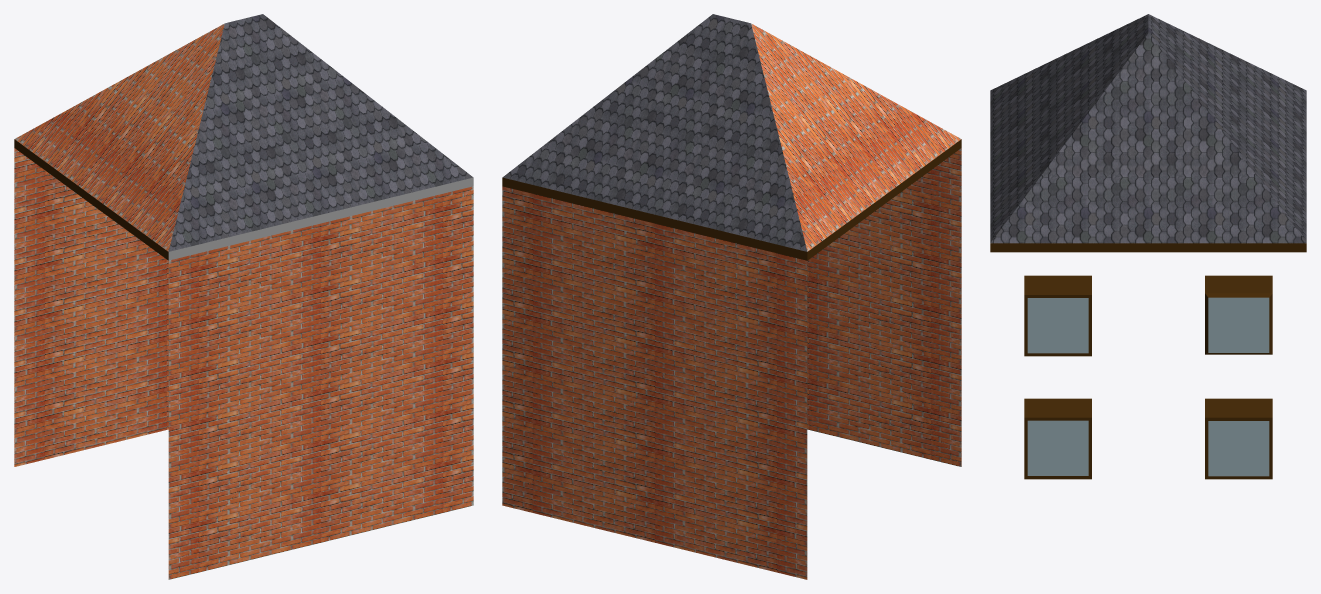
The model's file is inside_HOUSE_ENTRANCE.fbx.
3 renders of one model, left to right at view 1: azimuth 30°, elevation 25°; view 2: azimuth 150°, elevation 25°; view 3: azimuth 270°, elevation 25°, orthographic. The views are drawn at different scales.
Visible parts, largest first — view 1: polySurface1; view 2: polySurface1; view 3: polySurface1, pasted__pCube6, pasted__pCube8, pasted__pCube10, pasted__pCube9.
Part boxes in pixels (<box>): polySurface1: <box>14,14,473,579</box>; polySurface1: <box>502,14,961,579</box>; polySurface1: <box>990,14,1306,252</box>; pasted__pCube6: <box>1024,275,1091,356</box>; pasted__pCube8: <box>1024,398,1091,479</box>; pasted__pCube10: <box>1205,398,1272,479</box>; pasted__pCube9: <box>1205,275,1272,354</box>.
Bounding box in the file's own units: 0.0808 × 0.1172 × 0.07.
Materials: 5 (2 with a texture image).
